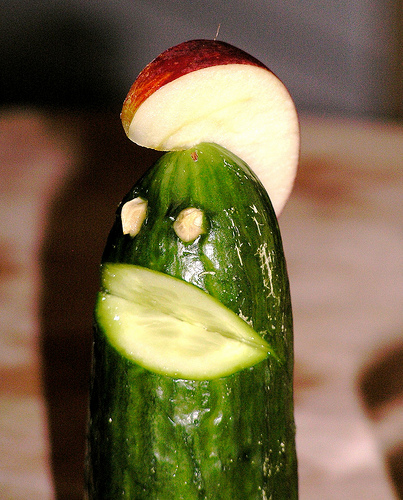cucumber: (81, 138, 301, 498)
